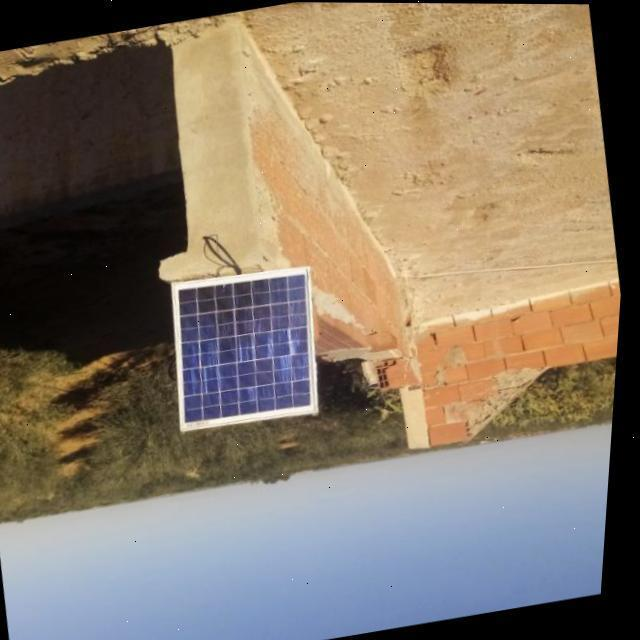Normal Solar Panel: (161, 258, 337, 434)
